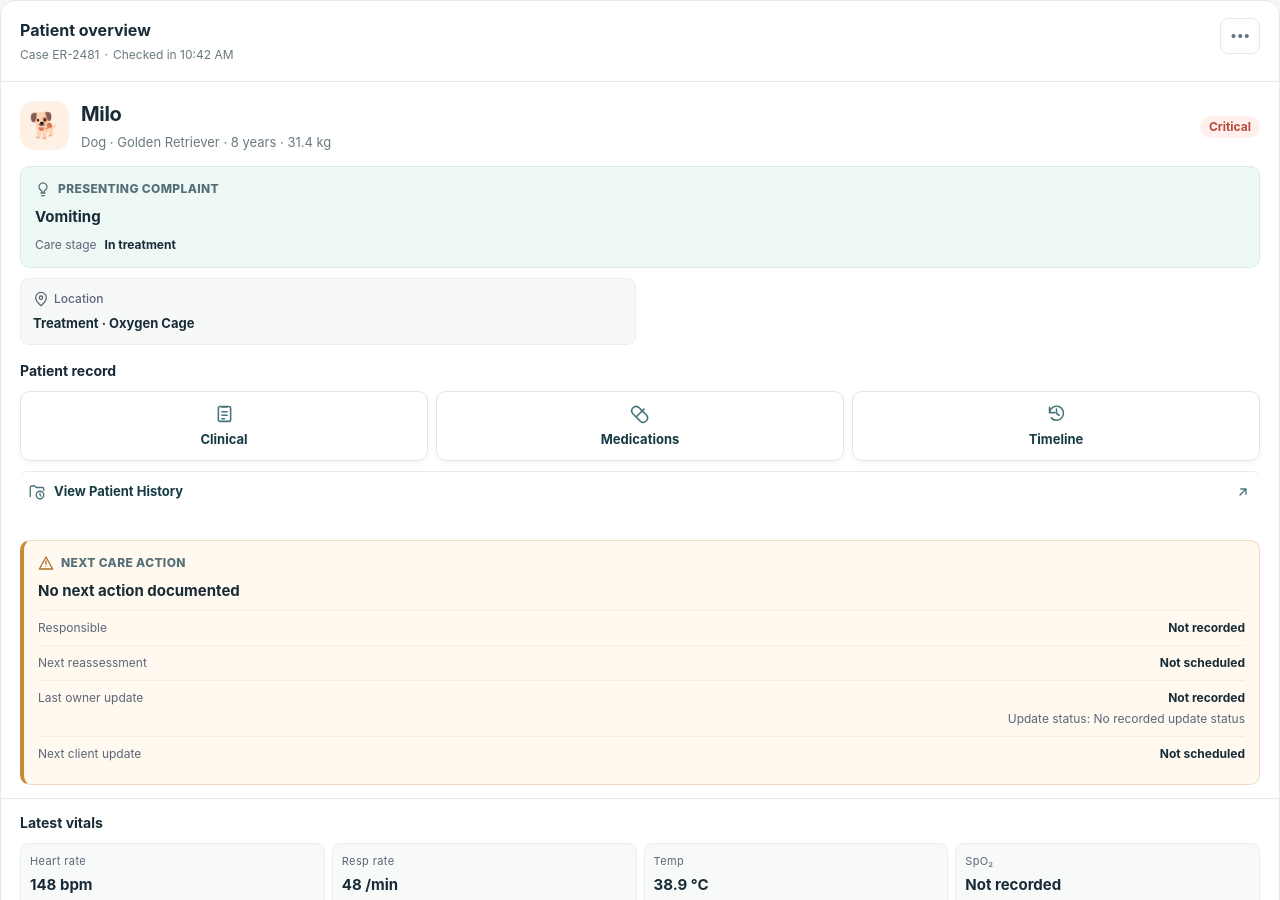
it: PatientOverviewPanel › moves task and entry actions into More actions while keeping task review case-bound
Expected: the heading "Milo" is shown, top-left (81, 102), bottom-right (122, 126)
Expected: the button "Record vitals" is not shown
What coordinates should you click on to do the following:
click the button named "More actions"
I would click on:
 (1240, 36)
Its box is top-left (1220, 18), bottom-right (1260, 54).
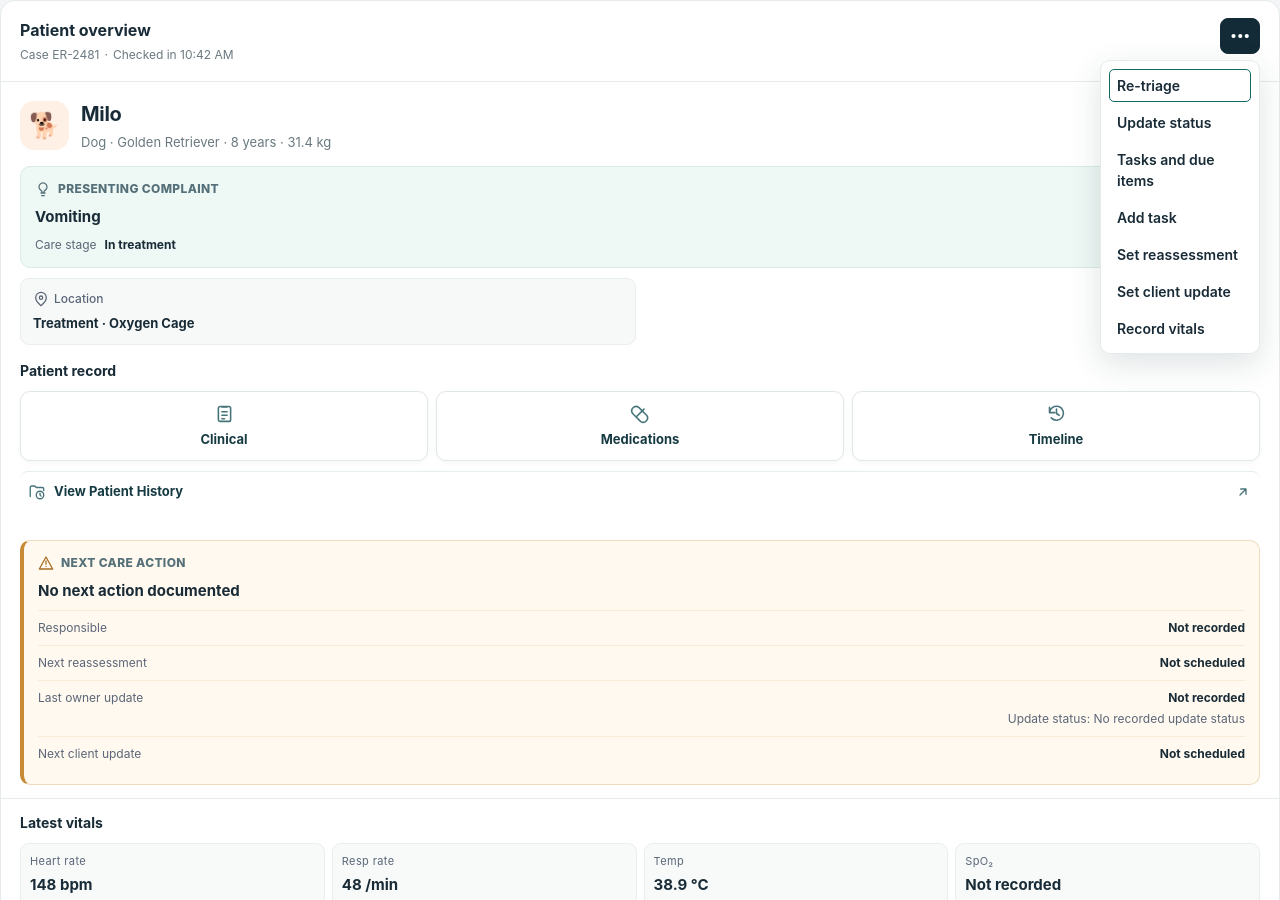
What coordinates should you click on to do the following:
click the button "Tasks and due items"
I would click on:
 (1180, 170)
Its box is top-left (1107, 140), bottom-right (1253, 198).
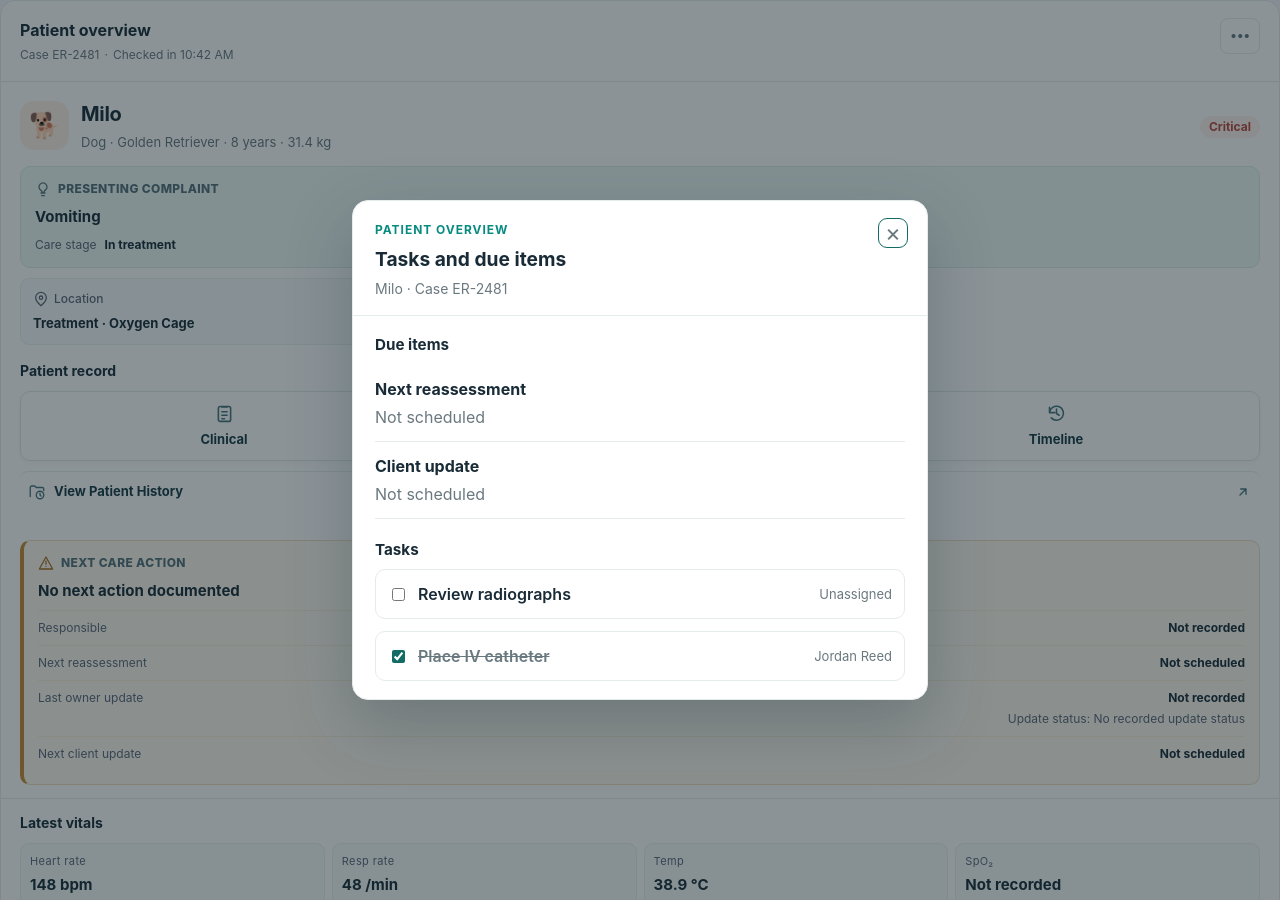
Expected: the dialog "Tasks and due items" shows "Milo", top-left (375, 280), bottom-right (403, 297)
Expected: the dialog "Tasks and due items" shows "ER-2481", top-left (452, 280), bottom-right (507, 297)
Expected: the checkbox labelled "Review radiographs" is shown, top-left (392, 588), bottom-right (405, 601)
What coordinates should you click on to do the following:
click the button named "Close tasks and due items"
I would click on:
 (893, 233)
Its box is top-left (881, 221), bottom-right (905, 245).
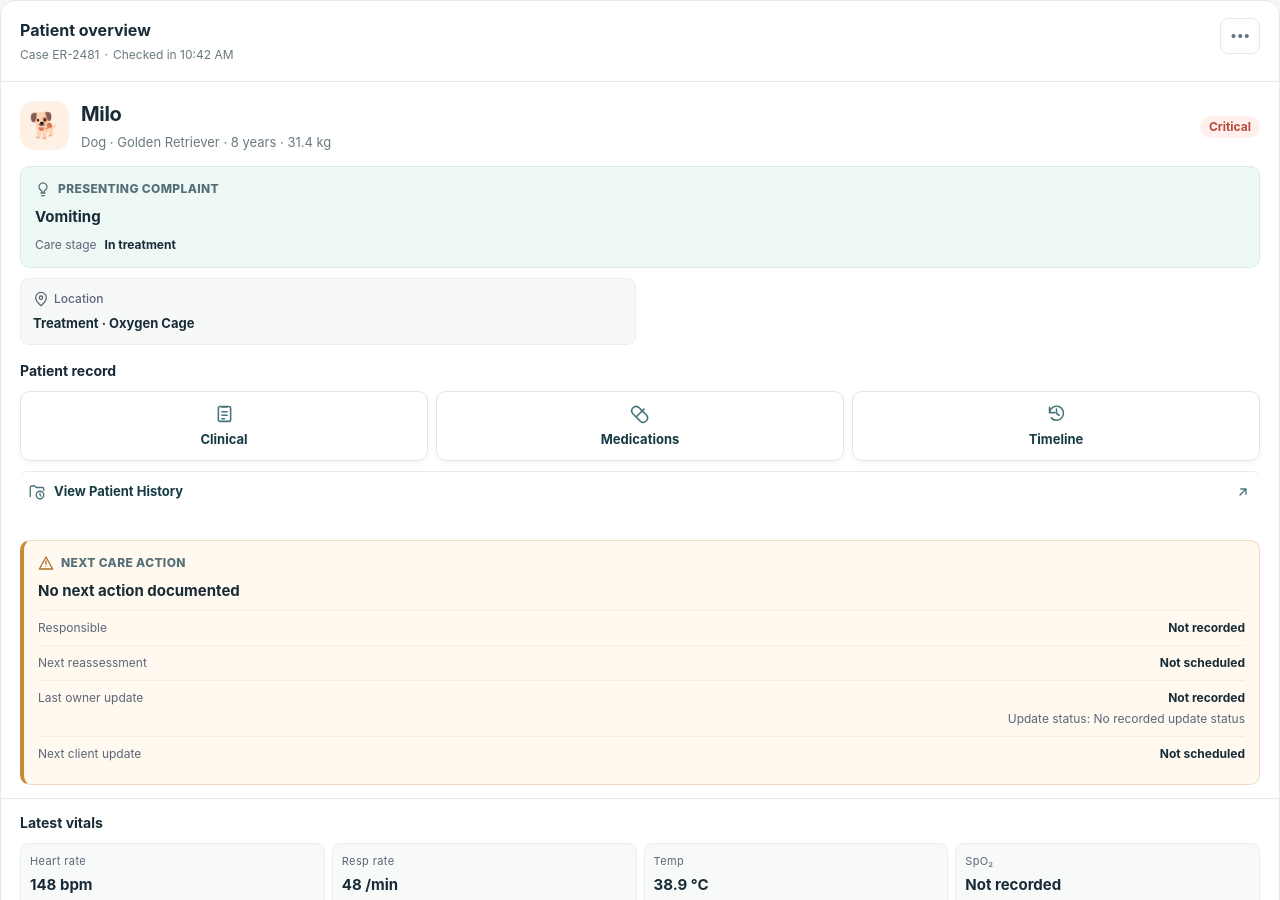
Expected: the heading "Tasks and due items" is gone
What coordinates should you click on to do the following:
click the button named "More actions"
I would click on:
 (1240, 36)
Its box is top-left (1220, 18), bottom-right (1260, 54).
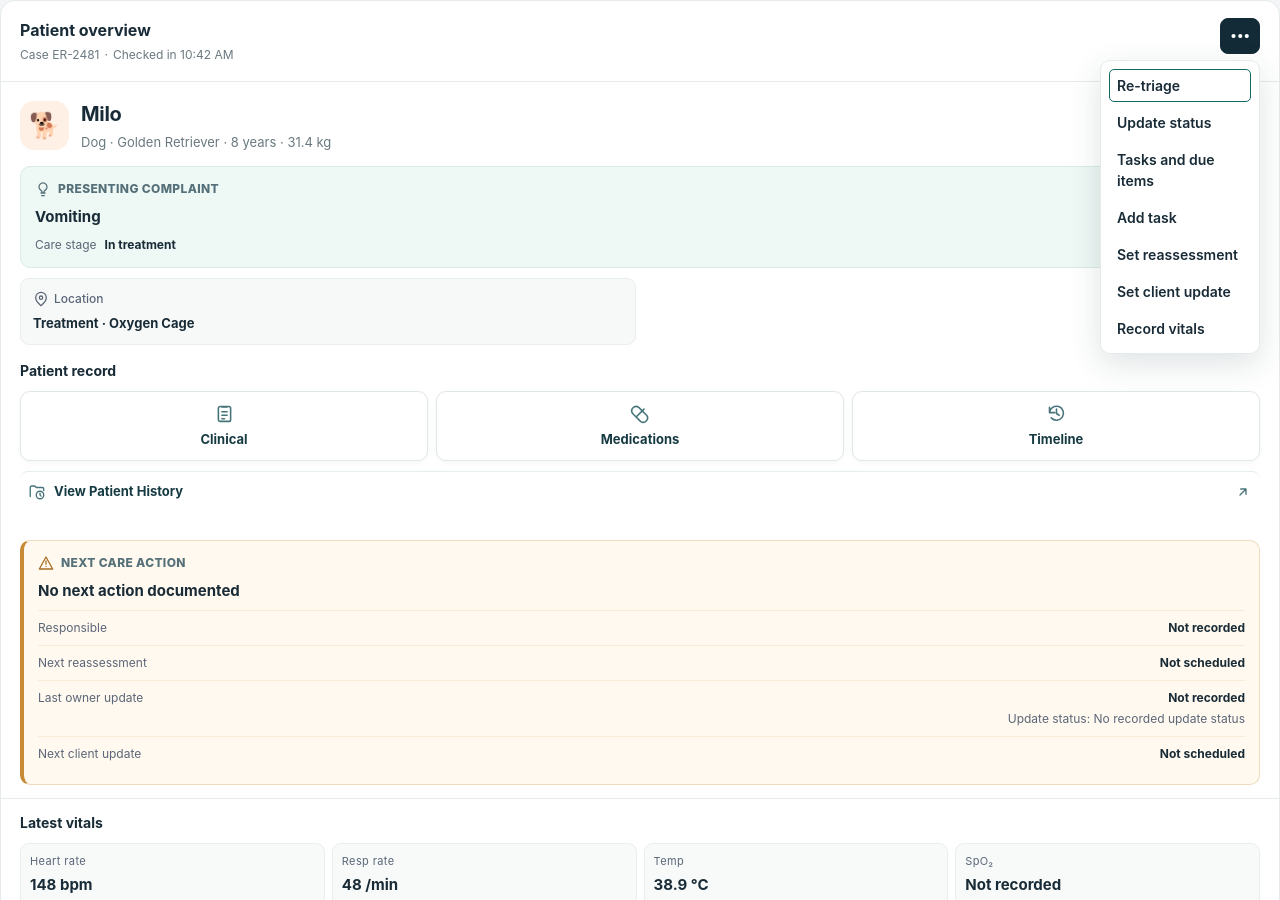
What coordinates should you click on to do the following:
click the button "Record vitals"
I would click on:
 (1180, 328)
Its box is top-left (1107, 310), bottom-right (1253, 346).
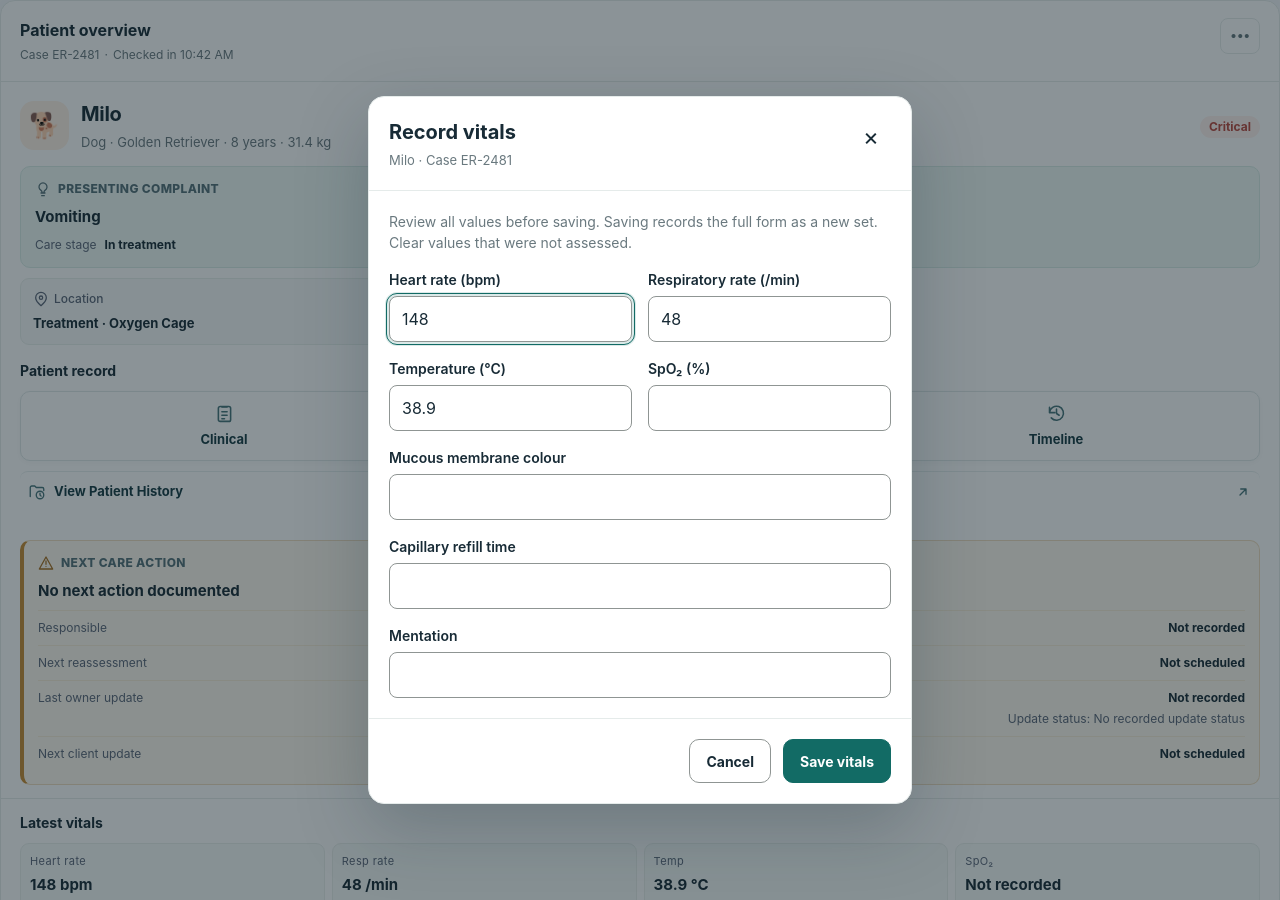
Expected: the dialog "Record vitals" is shown, top-left (368, 96), bottom-right (912, 804)
